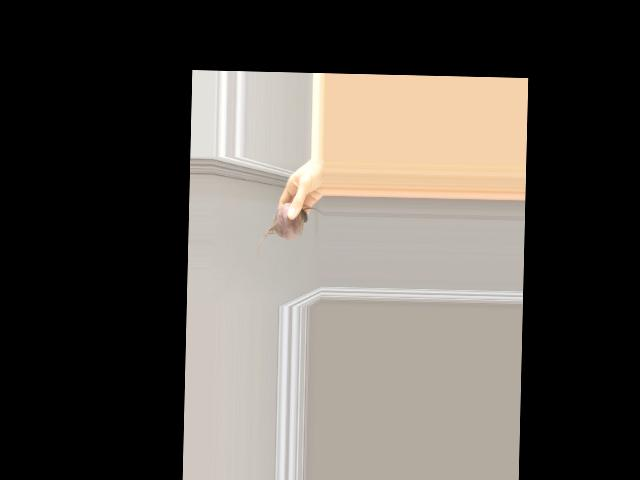beet: (256, 202, 323, 259)
